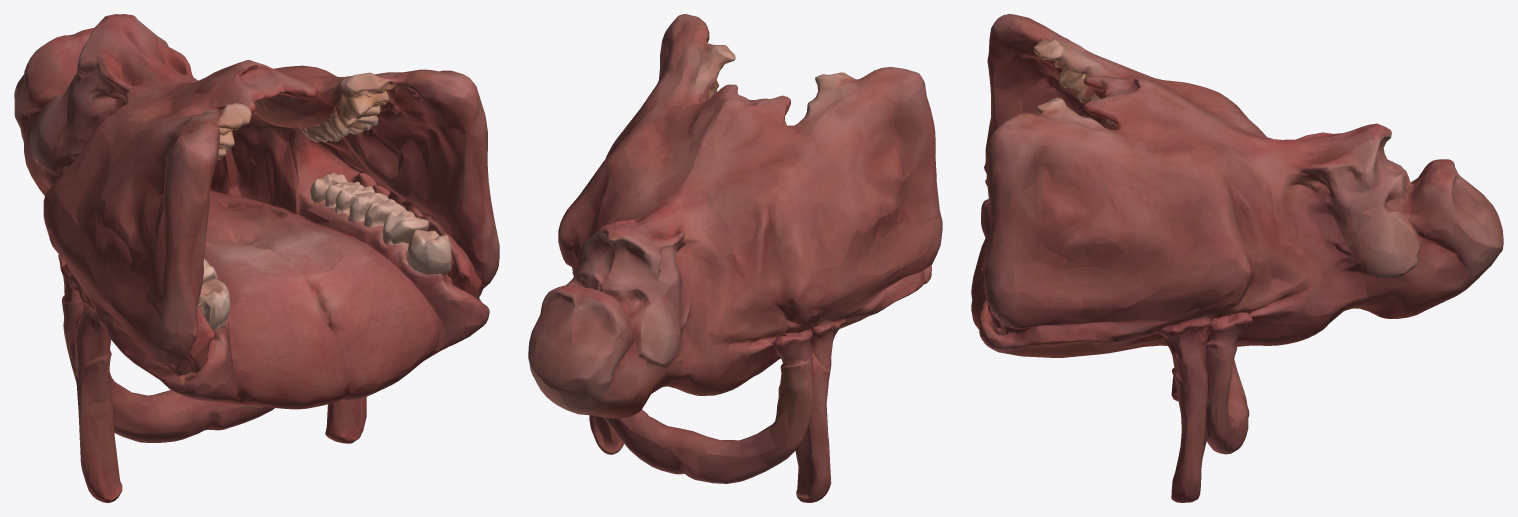
Rendered from inside-the-mouth.glb.
3 renders of one model, left to right at view 1: azimuth 30°, elevation 25°; view 2: azimuth 150°, elevation 25°; view 3: azimuth 270°, elevation 25°, orthographic. The views are drawn at different scales.
Visible parts, largest first — view 1: Mesh_0; view 2: Mesh_0; view 3: Mesh_0.
Boxes of the visible parts, x1,y1,x2,y2 form: Mesh_0: (14, 14, 499, 502); Mesh_0: (528, 14, 942, 502); Mesh_0: (971, 14, 1503, 502).
Bounding box in the file's own units: 1.23 × 1.5 × 1.89.
1 material, 1 textured.
